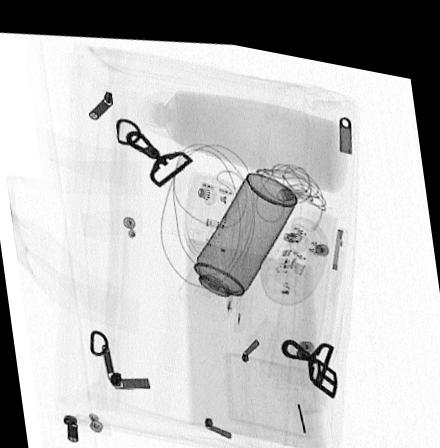Sprayer: (175, 162, 298, 314)
